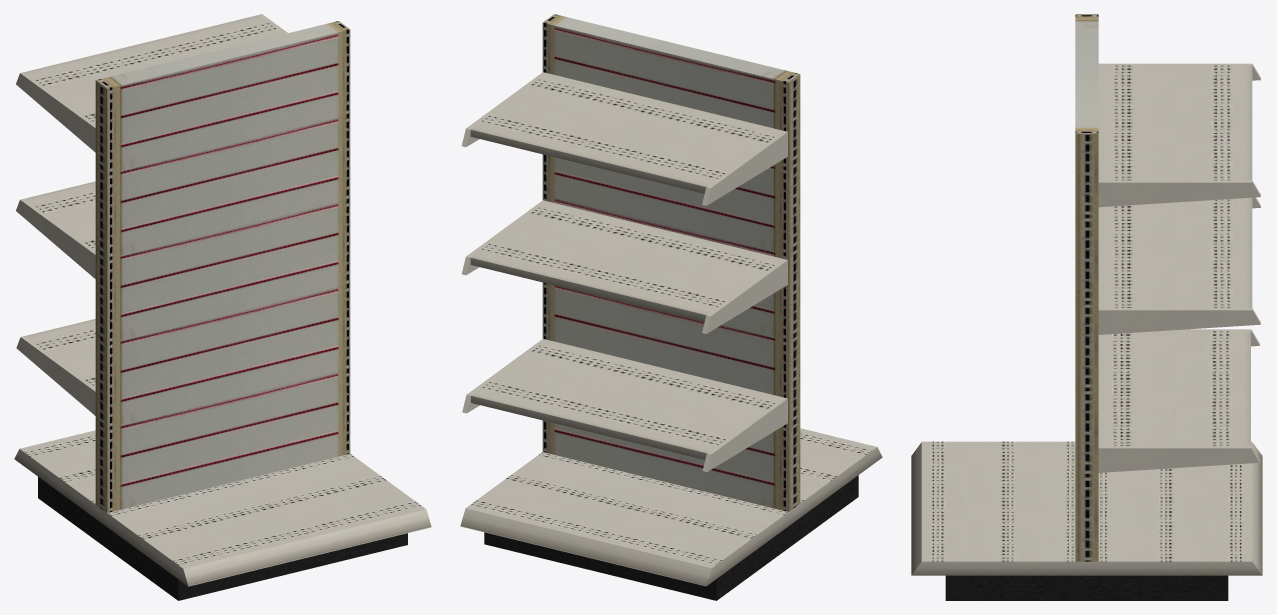
The model's file is Classic64_CommercialShelf_Model.fbx.
3 views of the same model, side by side, from view 1: azimuth 30°, elevation 25°; view 2: azimuth 150°, elevation 25°; view 3: azimuth 270°, elevation 25° (orthographic).
Parts seen in each view (by area): view 1: Classic64_CommercialShelf_Part00, Classic64_CommercialShelf_Part01, Classic64_CommercialShelf_Part03, Classic64_CommercialShelf_Part02, Classic64_CommercialShelf_Part04, Classic64_CommercialShelf_Part05, Classic64_CommercialShelf_Part07, Classic64_CommercialShelf_Part10, Classic64_CommercialShelf_Part06; view 2: Classic64_CommercialShelf_Part00, Classic64_CommercialShelf_Part01, Classic64_CommercialShelf_Part04, Classic64_CommercialShelf_Part03, Classic64_CommercialShelf_Part05, Classic64_CommercialShelf_Part02, Classic64_CommercialShelf_Part07, Classic64_CommercialShelf_Part10, Classic64_CommercialShelf_Part06, Classic64_CommercialShelf_Part09, Classic64_CommercialShelf_Part08, Classic64_CommercialShelf_Part11; view 3: Classic64_CommercialShelf_Part01, Classic64_CommercialShelf_Part03, Classic64_CommercialShelf_Part05, Classic64_CommercialShelf_Part04, Classic64_CommercialShelf_Part00, Classic64_CommercialShelf_Part02, Classic64_CommercialShelf_Part08, Classic64_CommercialShelf_Part09, Classic64_CommercialShelf_Part11, Classic64_CommercialShelf_Part07.
Boxes of the visible parts, bbox=[...] form: Classic64_CommercialShelf_Part00: bbox=[95, 21, 350, 512]; Classic64_CommercialShelf_Part01: bbox=[14, 430, 431, 586]; Classic64_CommercialShelf_Part03: bbox=[25, 15, 283, 123]; Classic64_CommercialShelf_Part02: bbox=[38, 477, 407, 600]; Classic64_CommercialShelf_Part04: bbox=[25, 181, 95, 250]; Classic64_CommercialShelf_Part05: bbox=[25, 319, 95, 387]; Classic64_CommercialShelf_Part07: bbox=[16, 72, 95, 152]; Classic64_CommercialShelf_Part10: bbox=[16, 198, 95, 278]; Classic64_CommercialShelf_Part06: bbox=[16, 336, 95, 415]; Classic64_CommercialShelf_Part00: bbox=[542, 14, 800, 511]; Classic64_CommercialShelf_Part01: bbox=[460, 428, 882, 586]; Classic64_CommercialShelf_Part04: bbox=[470, 201, 782, 321]; Classic64_CommercialShelf_Part03: bbox=[470, 73, 782, 193]; Classic64_CommercialShelf_Part05: bbox=[471, 340, 782, 459]; Classic64_CommercialShelf_Part02: bbox=[484, 475, 858, 600]; Classic64_CommercialShelf_Part07: bbox=[702, 131, 787, 205]; Classic64_CommercialShelf_Part10: bbox=[702, 259, 787, 333]; Classic64_CommercialShelf_Part06: bbox=[702, 397, 787, 471]; Classic64_CommercialShelf_Part09: bbox=[461, 200, 546, 275]; Classic64_CommercialShelf_Part08: bbox=[461, 72, 546, 147]; Classic64_CommercialShelf_Part11: bbox=[462, 339, 546, 413]; Classic64_CommercialShelf_Part01: bbox=[911, 441, 1262, 575]; Classic64_CommercialShelf_Part03: bbox=[1098, 65, 1252, 180]; Classic64_CommercialShelf_Part05: bbox=[1098, 331, 1250, 445]; Classic64_CommercialShelf_Part04: bbox=[1098, 197, 1252, 307]; Classic64_CommercialShelf_Part00: bbox=[1075, 14, 1098, 561]; Classic64_CommercialShelf_Part02: bbox=[945, 575, 1228, 600]; Classic64_CommercialShelf_Part08: bbox=[1098, 180, 1260, 207]; Classic64_CommercialShelf_Part09: bbox=[1098, 308, 1260, 334]; Classic64_CommercialShelf_Part11: bbox=[1098, 446, 1259, 472]; Classic64_CommercialShelf_Part07: bbox=[1098, 63, 1260, 80].
Bounding box in the file's own units: 0.9144 × 1.68 × 1.13.
Materials: 4 (4 with a texture image).
